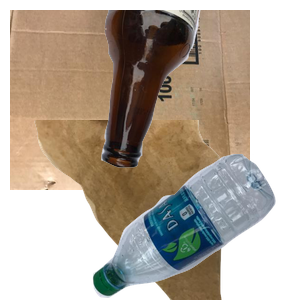cardboard: (10, 10, 250, 190)
glass: (99, 10, 300, 170)
plastic: (90, 154, 300, 300)
trash: (32, 120, 248, 300)
